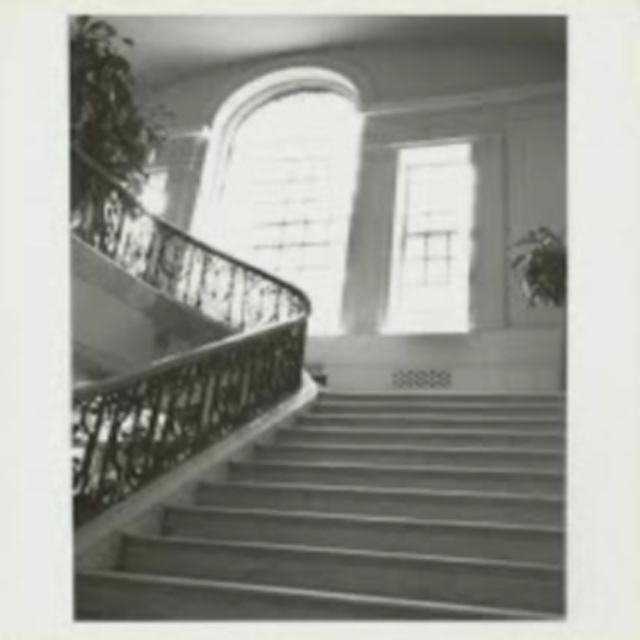stair: (99, 386, 546, 608)
